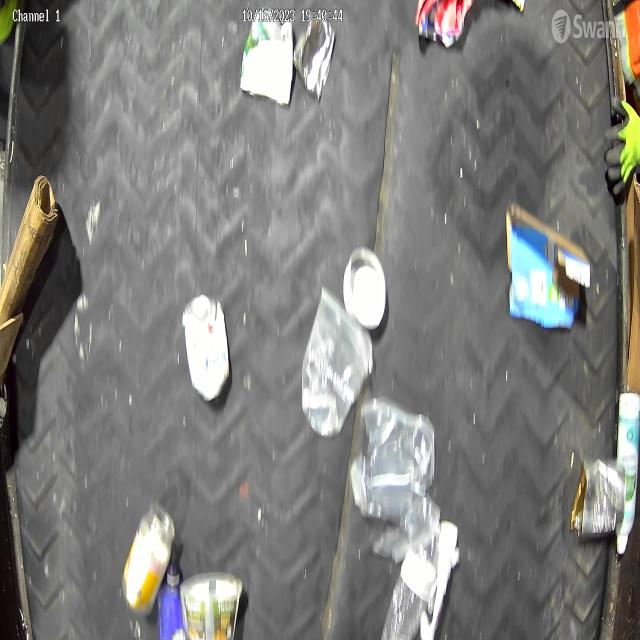can: (180, 291, 232, 403), (570, 454, 628, 543), (342, 246, 387, 334), (293, 11, 336, 102)
plastic_bottle: (380, 515, 442, 640)
